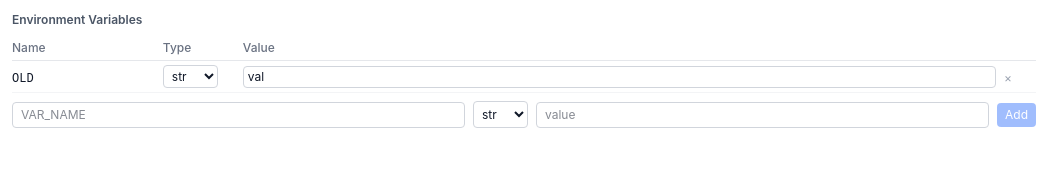
EnvVarEditor › editing a variable › renames a variable via double-click
// Double-click name to enter edit mode
Double-click the text with test id "env-var-name-OLD": (23, 78) [12, 72, 34, 86]
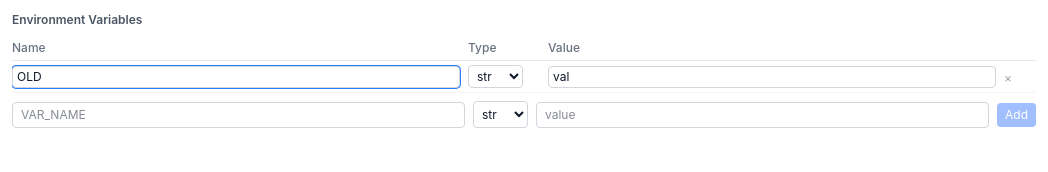
Check: the field with test id "env-var-name-input-OLD" is shown
Replace the text in the field with test id "env-var-name-input-OLD" with "NEW": (236, 76) [12, 66, 460, 88]
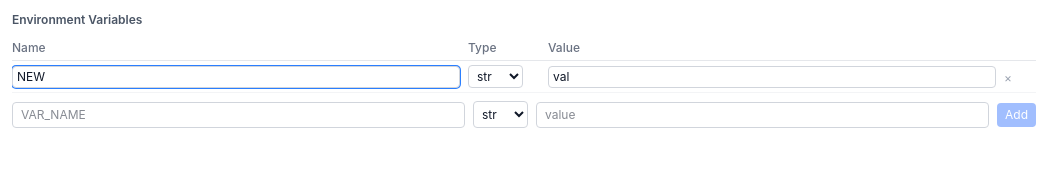
// Press Enter to commit
Press Enter
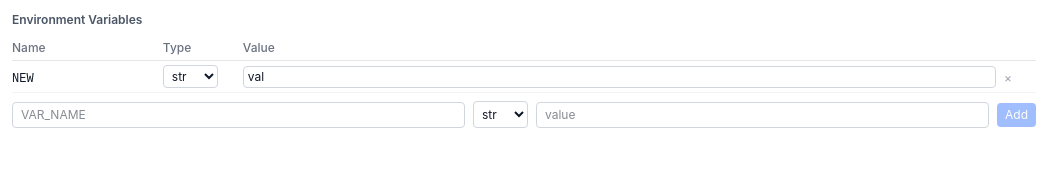
Check: the text "NEW" is shown, box [12, 72, 34, 86]
